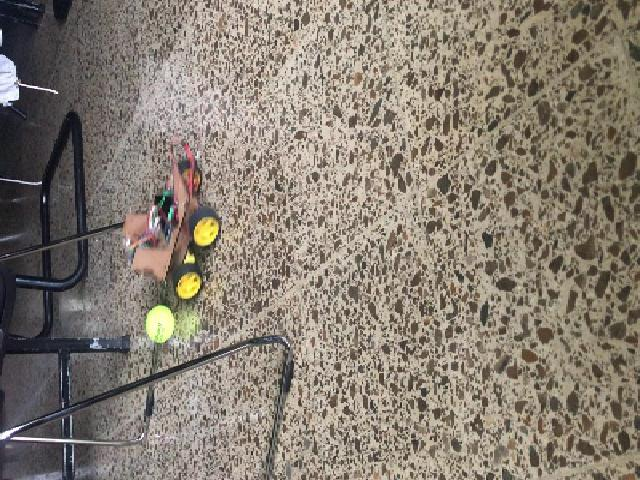Ball: (144, 305, 173, 343)
Robot: (123, 161, 219, 300)
